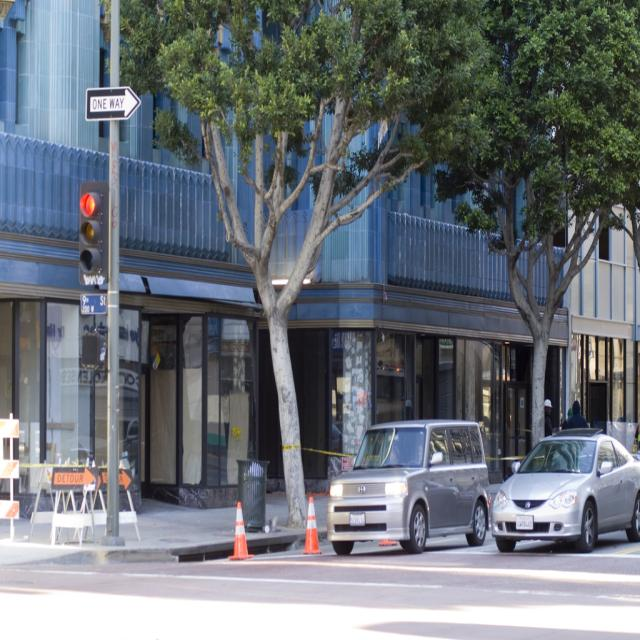car: (327, 420, 490, 552)
